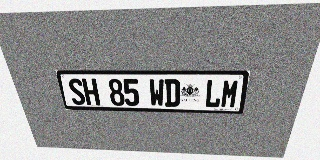5: (123, 79, 140, 106)
8: (107, 79, 125, 106)
D: (165, 79, 180, 107)
H: (81, 78, 100, 105)
L: (204, 79, 223, 108)
M: (220, 79, 240, 108)
S: (67, 78, 86, 105)
W: (149, 79, 164, 107)
